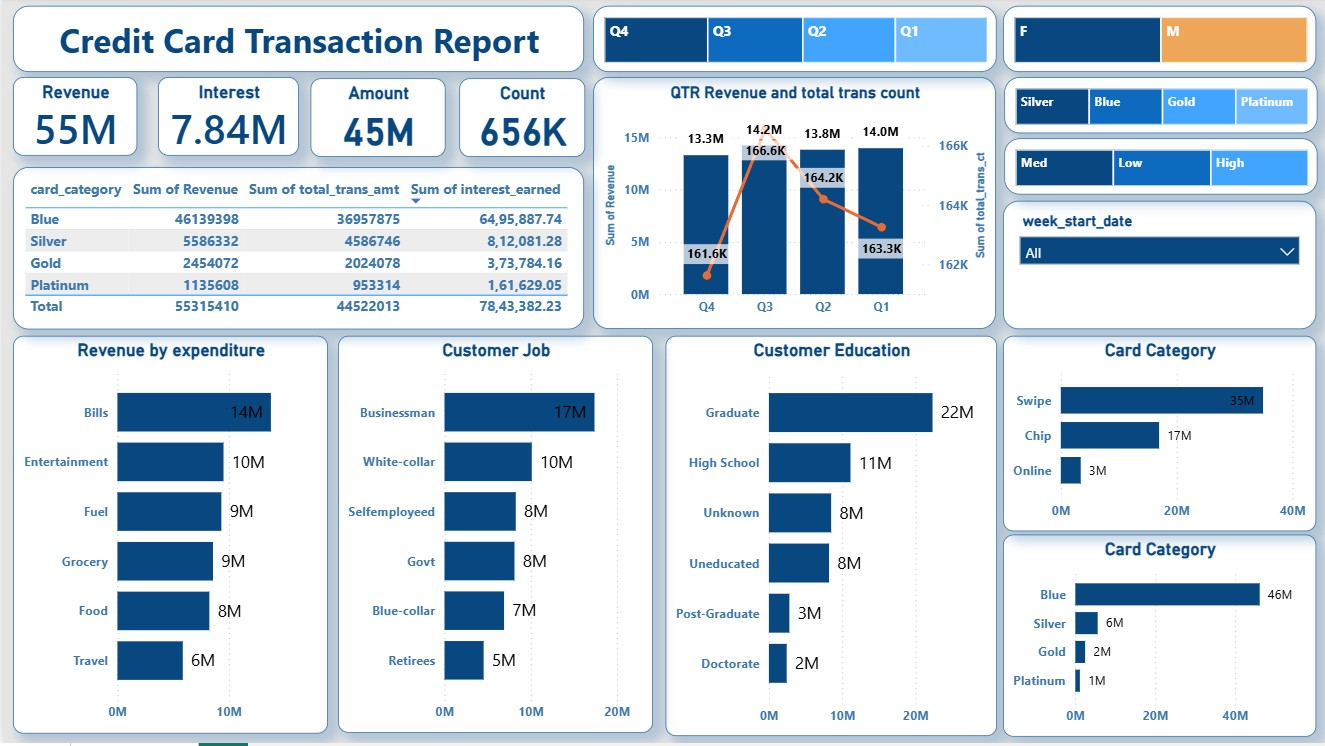

What the dashboard file says about the page in this screenshot:
{"tool":"powerbi","page":{"name":"Credit Card ","canvas":[1280,720],"ordinal":0},"visuals":[{"type":"textbox","box":[10,8.8,551.2,63.8],"z":0},{"type":"lineStackedColumnComboChart","title":"QTR Revenue and total trans count","fields":{"Category":["public cc_detail.qtr"],"Y":["Sum(public cc_detail.Revenue)"],"Y2":["Sum(public cc_detail.total_trans_ct)"]},"box":[570,77.5,389.2,243.3],"z":1000},{"type":"barChart","title":"Revenue  by expenditure","fields":{"Y":["Sum(public cc_detail.Revenue)"],"Category":["public cc_detail.exp_type"]},"box":[9.7,326.9,304,383.6],"z":2000},{"type":"barChart","title":"Customer Education ","fields":{"Y":["Sum(public cc_detail.Revenue)"],"Category":["public cust_detail.education_level"]},"box":[639.2,327.5,320,386.7],"z":3000},{"type":"barChart","title":"Customer Job  ","fields":{"Y":["Sum(public cc_detail.Revenue)"],"Category":["public cust_detail.customer_job"]},"box":[323.3,327.5,304.2,383.3],"z":4000},{"type":"barChart","title":"Card Category ","fields":{"Y":["Sum(public cc_detail.Revenue)"],"Category":["public cc_detail.card_category"]},"box":[965,518.8,302.5,195],"z":5000},{"type":"barChart","title":"Card Category ","fields":{"Y":["Sum(public cc_detail.Revenue)"],"Category":["public cc_detail.use_chip"]},"box":[965,327.5,302.5,188.8],"z":6000},{"type":"tableEx","fields":{"Values":["public cc_detail.card_category","Sum(public cc_detail.Revenue)","Sum(public cc_detail.total_trans_amt)","Sum(public cc_detail.interest_earned)"]},"box":[10,164.2,550.8,156.7],"z":7000},{"type":"card","title":"Revenue","fields":{"Values":["Sum(public cc_detail.Revenue)"]},"box":[10,77.5,120,75.8],"z":8000},{"type":"card","title":"Interest","fields":{"Values":["Sum(public cc_detail.interest_earned)"]},"box":[149.6,77.2,136.3,76],"z":9000},{"type":"card","title":"Amount","fields":{"Values":["Sum(public cc_detail.total_trans_amt)"]},"box":[296.8,78.4,130.3,76],"z":10000},{"type":"card","title":"Count","fields":{"Values":["Sum(public cc_detail.total_trans_ct)"]},"box":[440,78.8,121.2,76.2],"z":11000},{"type":"slicer","fields":{"Values":["public cc_detail.week_start_date"]},"box":[965,196.2,302.5,123.8],"z":12000},{"type":"treemap","fields":{"Group":["public cc_detail.qtr"],"Values":["Avg(public cust_detail.client_num)"]},"box":[570,8.9,389.5,63.7],"z":13000},{"type":"treemap","fields":{"Values":["Avg(public cust_detail.client_num)"],"Group":["public cust_detail.gender"]},"box":[965,8.8,302.5,63.8],"z":14000},{"type":"treemap","fields":{"Values":["Avg(public cust_detail.client_num)"],"Group":["public cc_detail.card_category"]},"box":[965.8,77.4,302.1,54.7],"z":15000},{"type":"treemap","fields":{"Values":["Avg(public cust_detail.client_num)"],"Group":["public cust_detail.IncomeGroup"]},"box":[965.8,136.8,302.1,54.7],"z":16000}]}

Visuals, with their boxes in screenshot pixels (x1, y1, x2, y2), scaled from the page's 1280x720 canvas onto the 1325x746 screenshot:
textbox: 10, 9, 581, 75
"QTR Revenue and total trans count" lineStackedColumnComboChart: 590, 80, 993, 332
"Revenue  by expenditure" barChart: 10, 339, 325, 736
"Customer Education " barChart: 662, 339, 993, 740
"Customer Job  " barChart: 335, 339, 650, 736
"Card Category " barChart: 999, 538, 1312, 740
"Card Category " barChart: 999, 339, 1312, 535
tableEx - public cc_detail.card_category x Sum(public cc_detail.Revenue): 10, 170, 581, 332
"Revenue" card: 10, 80, 135, 159
"Interest" card: 155, 80, 296, 159
"Amount" card: 307, 81, 442, 160
"Count" card: 455, 82, 581, 161
slicer - public cc_detail.week_start_date: 999, 203, 1312, 332
treemap - public cc_detail.qtr x Avg(public cust_detail.client_num): 590, 9, 993, 75
treemap - Avg(public cust_detail.client_num) x public cust_detail.gender: 999, 9, 1312, 75
treemap - Avg(public cust_detail.client_num) x public cc_detail.card_category: 1000, 80, 1312, 137
treemap - Avg(public cust_detail.client_num) x public cust_detail.IncomeGroup: 1000, 142, 1312, 198
